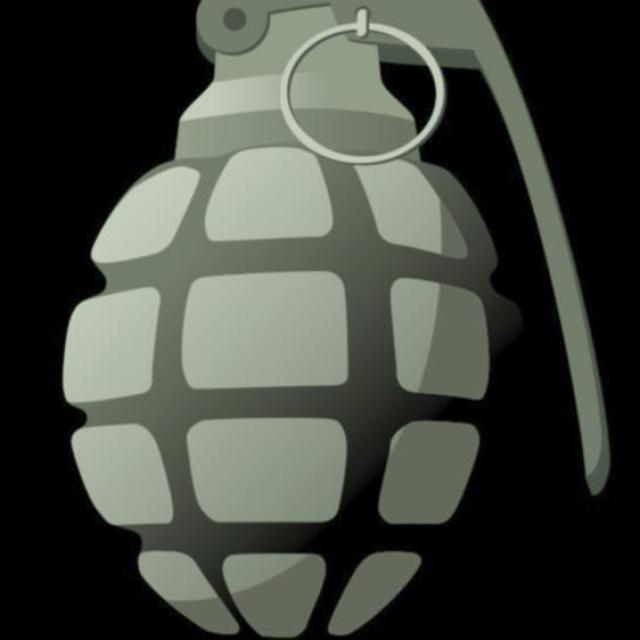grenade: (64, 1, 614, 640)
